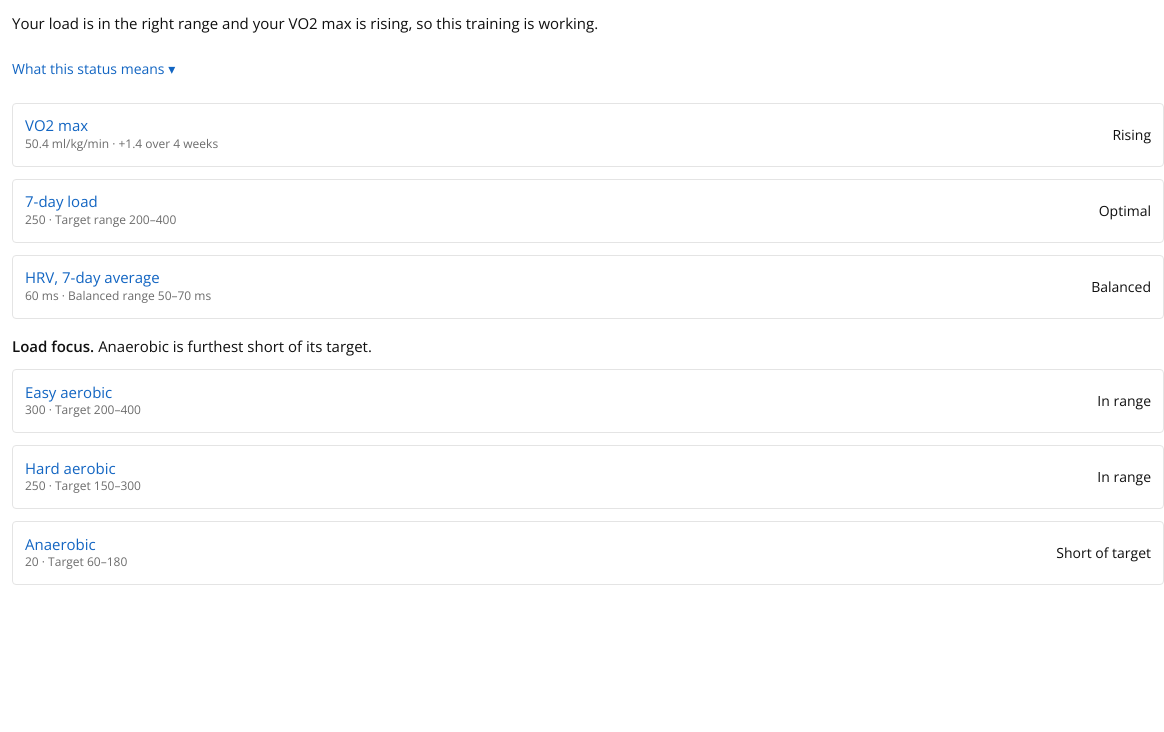
the training status explanation › gives the sentence, the figures, the load focus and a paragraph that opens on demand
Expected: the text "VO2 max is rising, so this training is working" is shown, [12, 13, 598, 33]
Expected: the text "50.4 ml/kg/min · +1.4 over 4 weeks" is shown, [25, 136, 218, 153]
What coordinates should you click on to do the following:
click the button "What this status means"
I would click on:
 (94, 68)
Its box is [12, 46, 175, 90].
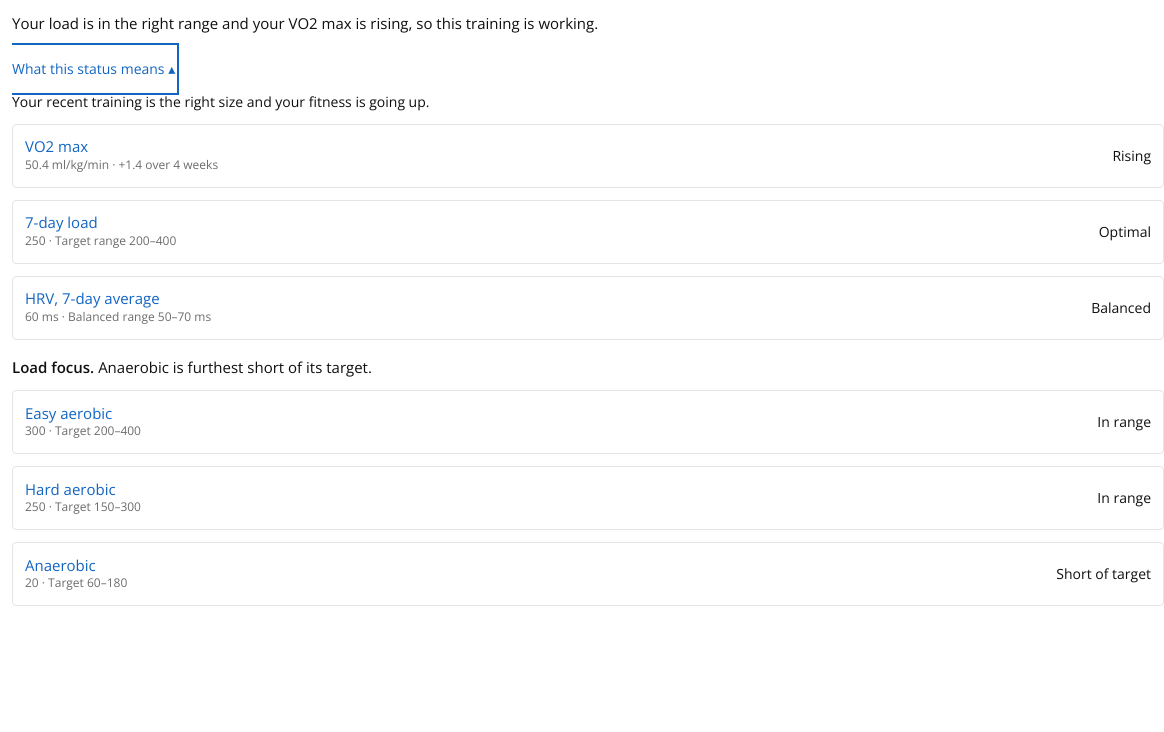
Expected: the text "fitness is going up" is shown, [12, 92, 430, 110]
